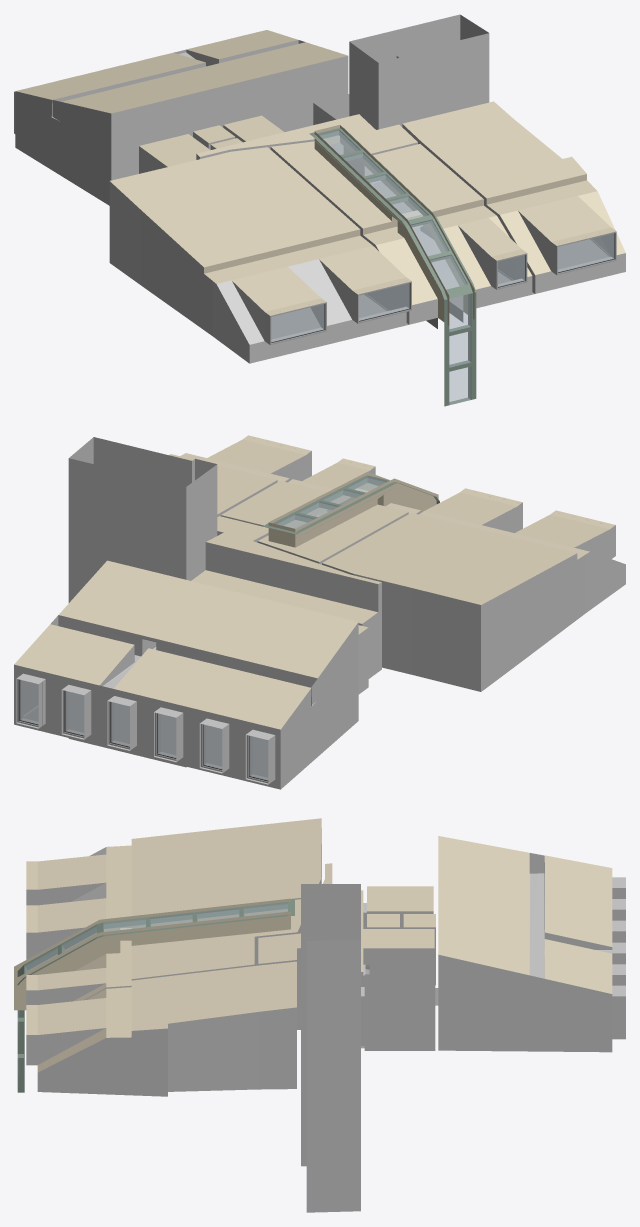
The model's file is ww_building_etg3.fbx.
3 views of the same model, one above another, from view 1: azimuth 30°, elevation 25°; view 2: azimuth 150°, elevation 25°; view 3: azimuth 270°, elevation 25° (orthographic). The views are drawn at different scales.
Parts seen in each view (by area): view 1: Export; view 2: Export; view 3: Export.
Part boxes in pixels (bbox=[...]): Export: bbox=[14, 14, 625, 406]; Export: bbox=[14, 435, 625, 789]; Export: bbox=[14, 818, 625, 1212].
Bounding box in the file's own units: 2048 × 1336 × 2727.
